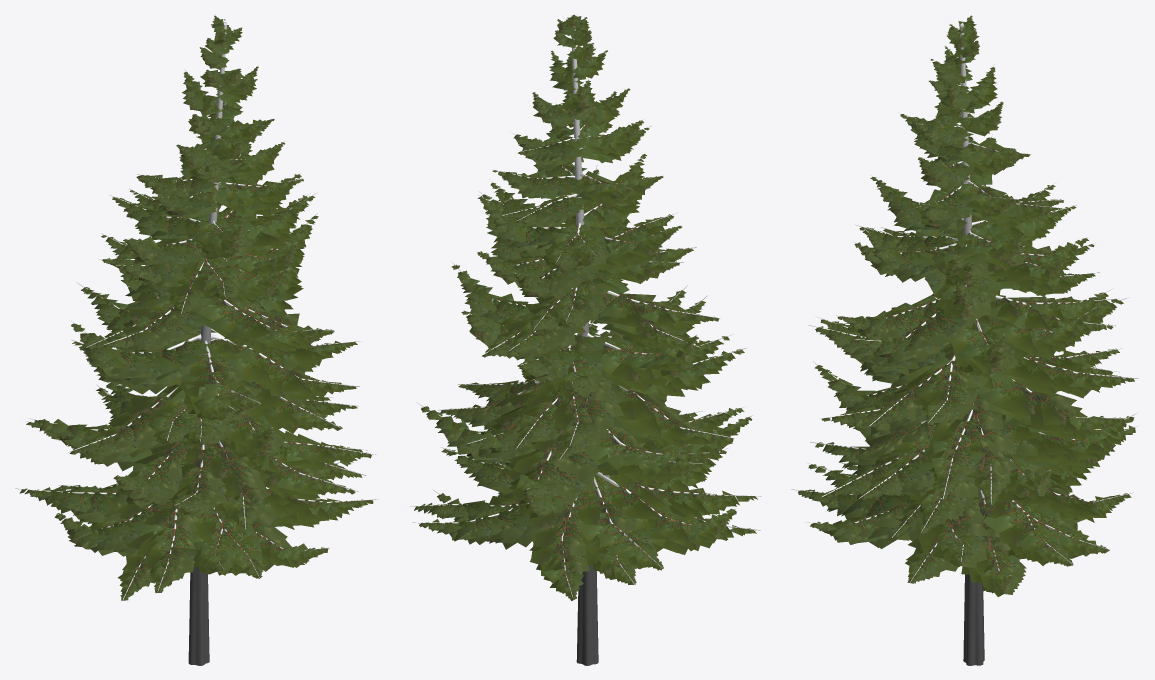
Rendered from Spruce_Rand_mdl.fbx.
The picture shows the model from 3 angles, left to right: view 1: azimuth 30°, elevation 25°; view 2: azimuth 150°, elevation 25°; view 3: azimuth 270°, elevation 25°; orthographic projection.
Parts seen in each view (by area): view 1: Spruce_Rand_LOD0; view 2: Spruce_Rand_LOD0; view 3: Spruce_Rand_LOD0.
Boxes of the visible parts, left/top/right/bottom form: Spruce_Rand_LOD0: left=15, top=15, right=378, bottom=665; Spruce_Rand_LOD0: left=407, top=14, right=761, bottom=665; Spruce_Rand_LOD0: left=791, top=15, right=1139, bottom=665.
Size of the model in its own units: 977 by 1990 by 966.
Materials: 2 (1 with a texture image).
